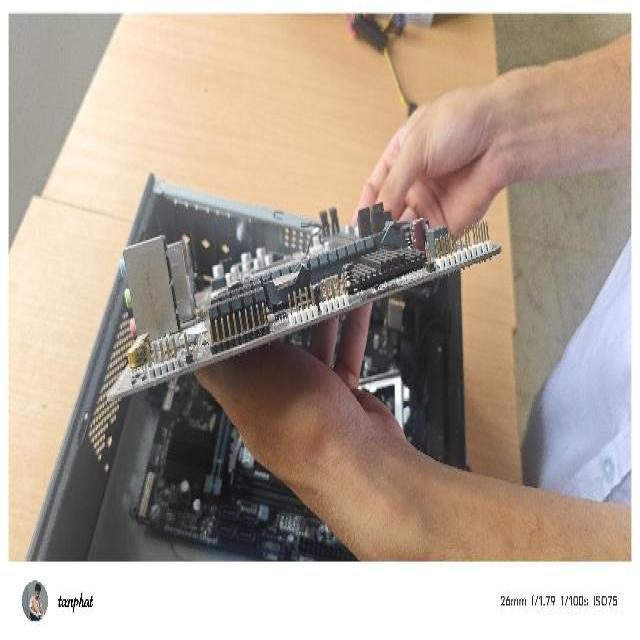Mainboard: (84, 187, 503, 409)
